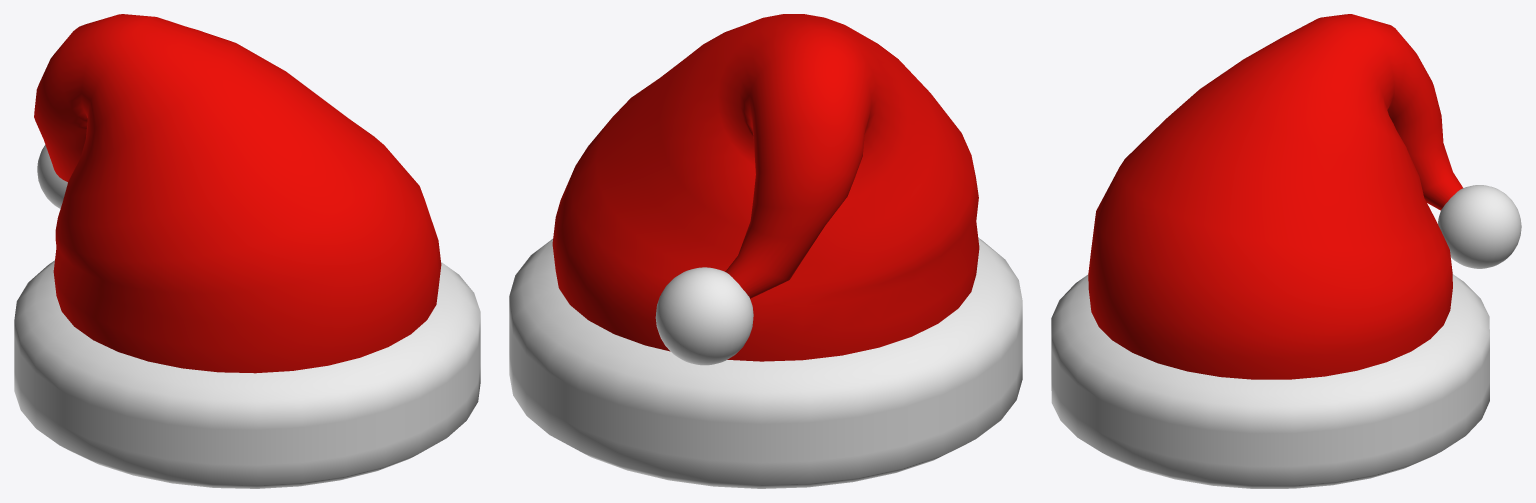
Rendered from HAT.glb.
3 views of the same model, side by side, from view 1: azimuth 30°, elevation 25°; view 2: azimuth 150°, elevation 25°; view 3: azimuth 270°, elevation 25° (orthographic). The views are drawn at different scales.
Parts seen in each view (by area): view 1: Circle, Circle.001, Sphere; view 2: Circle, Circle.001, Sphere; view 3: Circle, Circle.001, Sphere.
Boxes of the visible parts, x1,y1,x2,y2 form: Circle: [34, 14, 441, 373]; Circle.001: [14, 260, 480, 488]; Sphere: [37, 144, 67, 208]; Circle: [552, 14, 979, 361]; Circle.001: [509, 238, 1022, 488]; Sphere: [655, 267, 753, 365]; Circle: [1088, 14, 1462, 379]; Circle.001: [1051, 274, 1489, 488]; Sphere: [1438, 185, 1521, 268].
Size of the model in its own units: 3.98 by 3.51 by 4.27.
